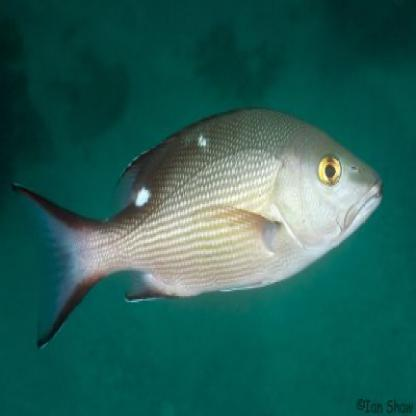Bio: (6, 101, 391, 351)
